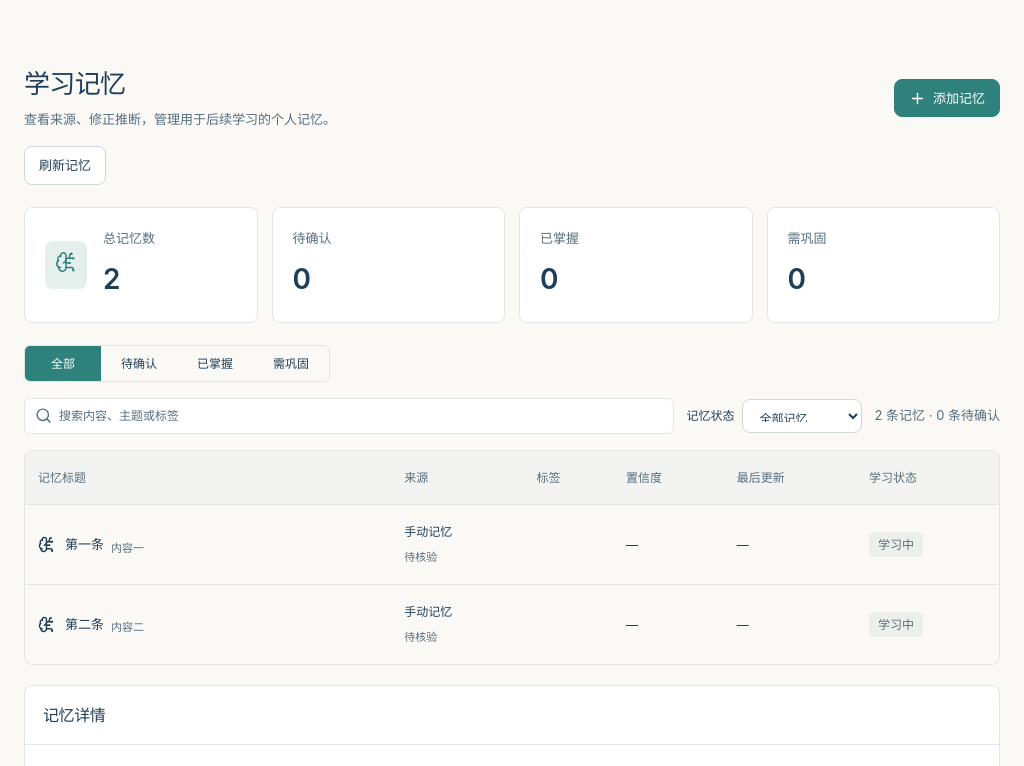
save receipt survives a failed version refresh and cannot be mistaken for a failed write
Click the button "第一条 内容一": [91, 544] box [38, 525, 144, 563]
(page scrolled)
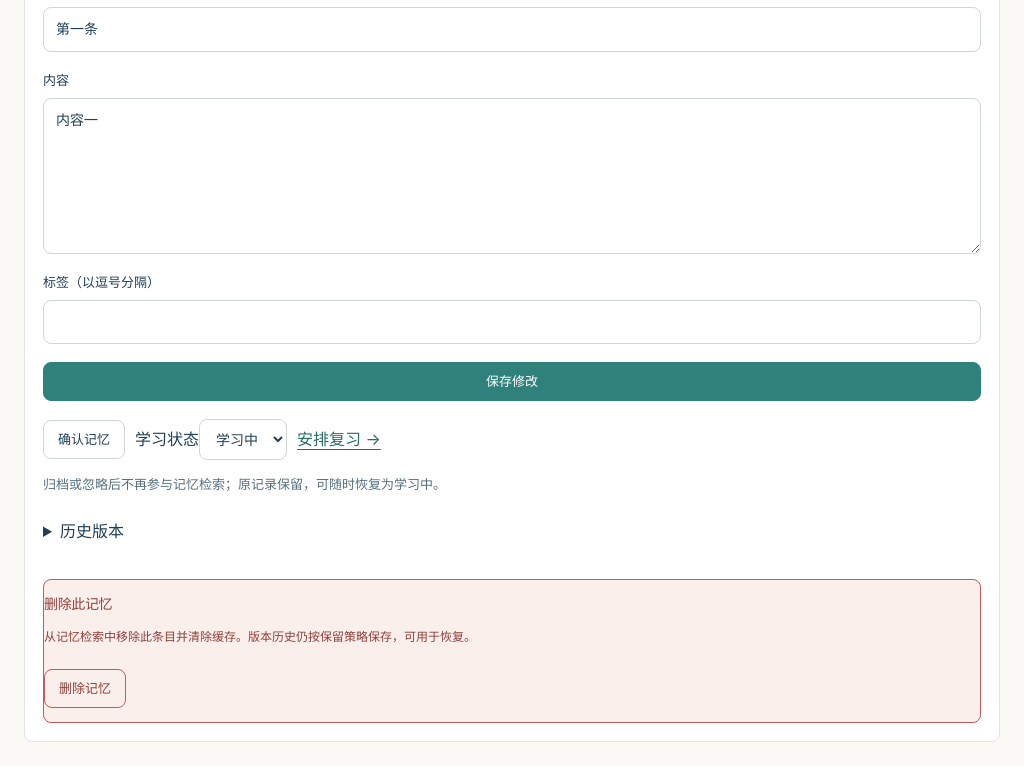
Click the heading "历史版本": [92, 531] box [60, 521, 124, 541]
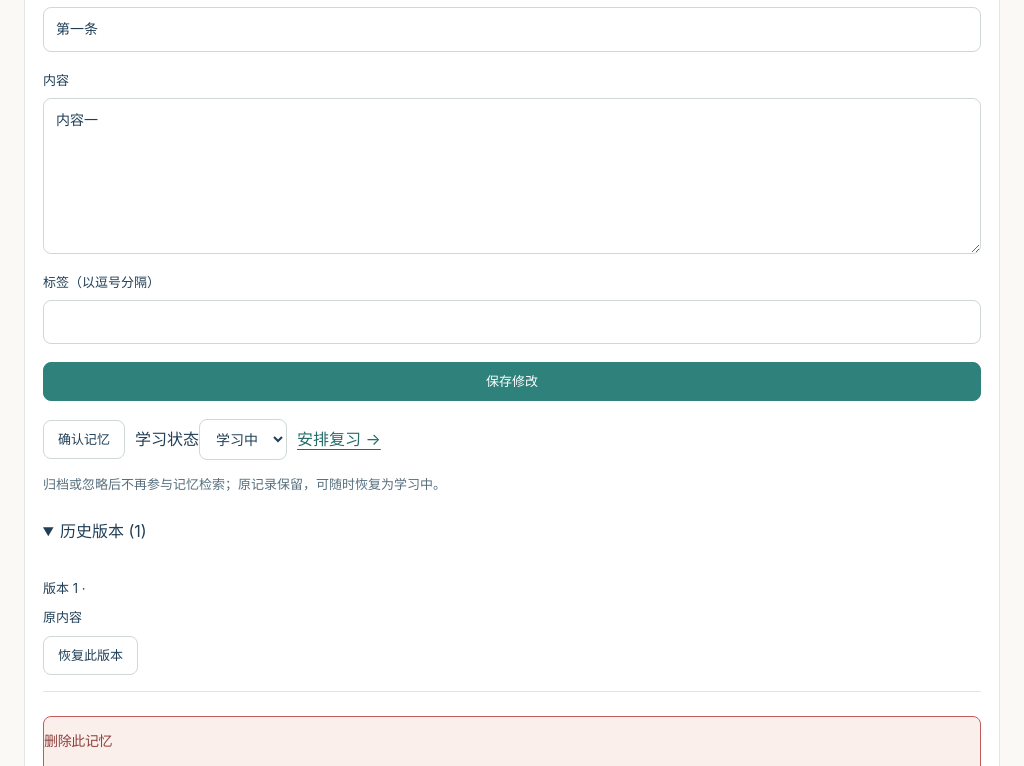
Expected: the text "原内容" is shown, [43, 609, 82, 625]
Replace the text in the text box labelled "内容" with "已保存内容": [512, 176] box [43, 98, 981, 254]
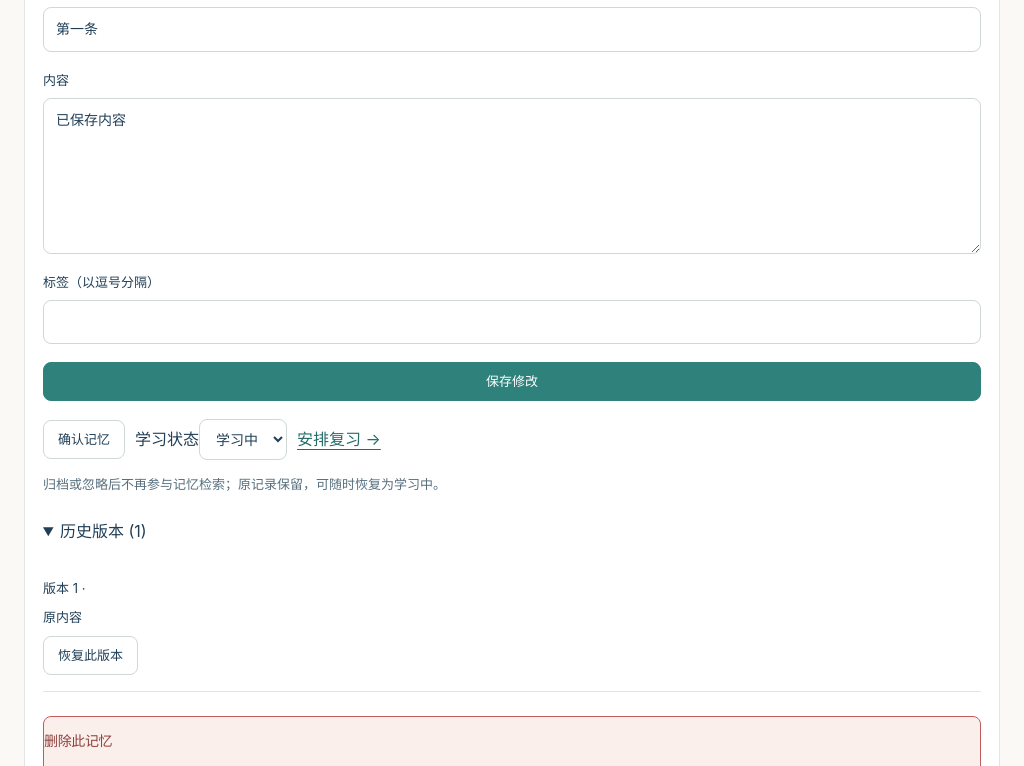
Click the button "保存修改": [512, 382] box [43, 362, 981, 401]
(page scrolled)
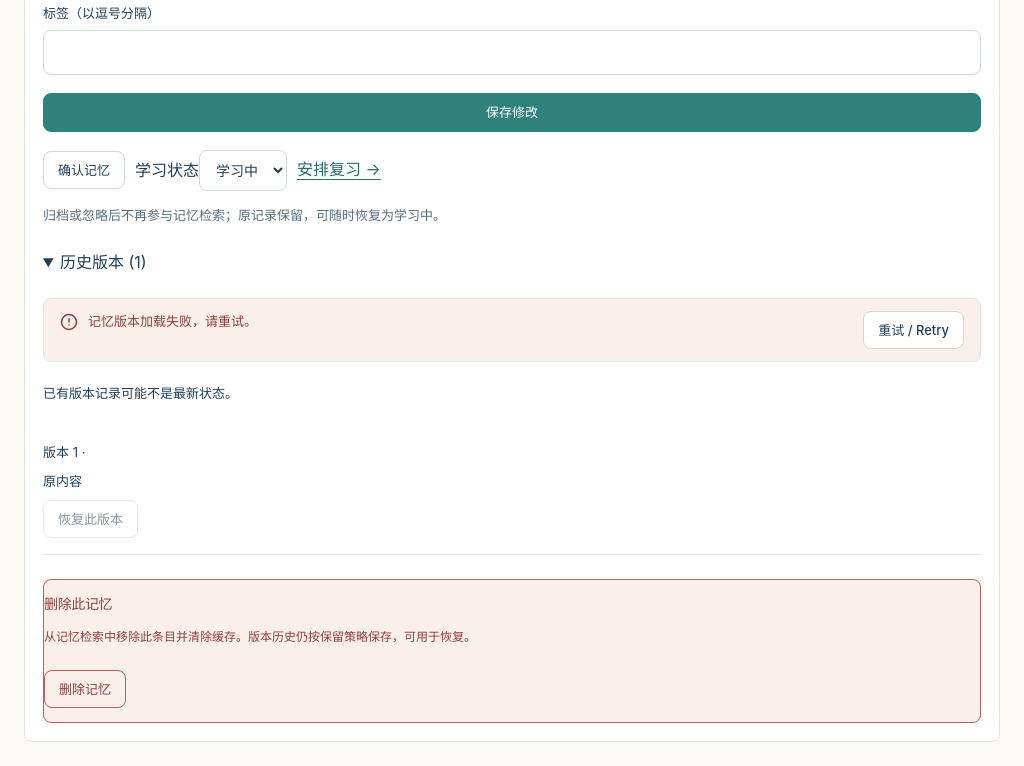
Expected: the text "记忆版本加载失败，请重试。" is shown, [88, 313, 257, 329]
Expected: the text "已有版本记录可能不是最新状态。" is shown, [43, 385, 238, 401]
Expected: the button "恢复此版本" is disabled, [43, 500, 138, 538]
